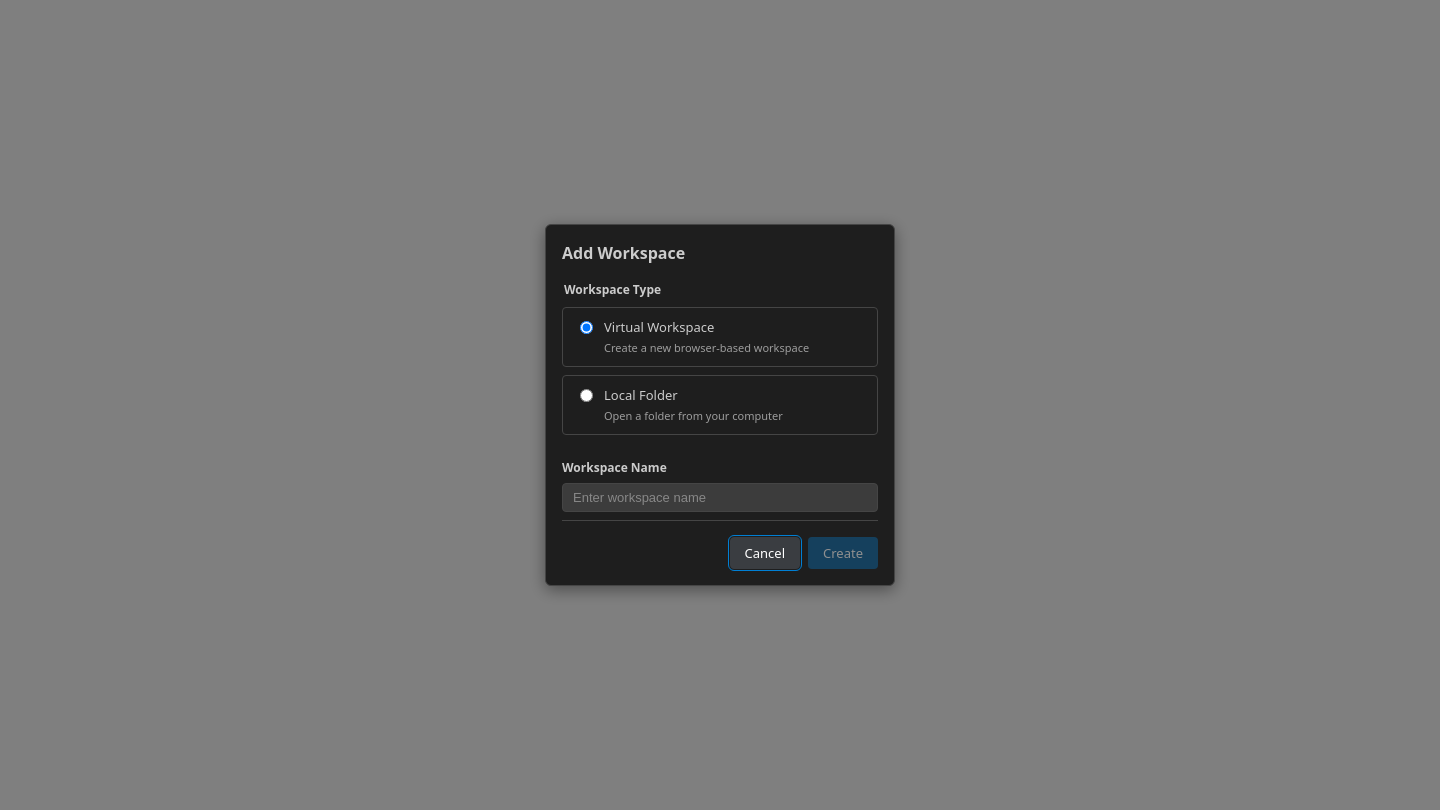
AddWorkspaceDialog › workspace type selection › can select local folder option
The width and height of the screenshot is (1440, 810).
Click the radio button labelled "Local Folder Open a folder from your computer": (586, 396) [580,389,593,402]
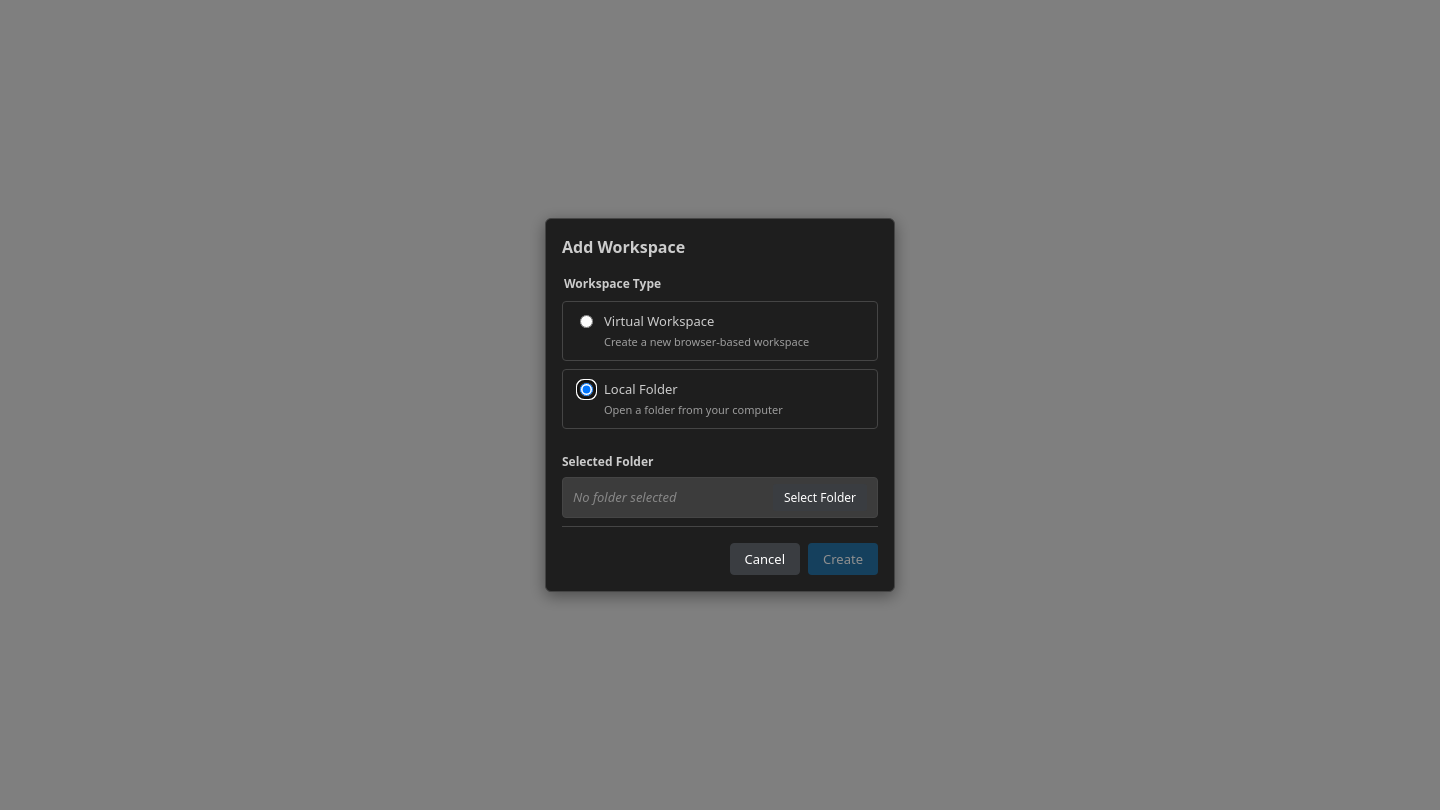
Now the radio button labelled "Local Folder Open a folder from your computer" is checked, box [580,383,593,396]
Now the radio button labelled "Virtual Workspace Create a new browser-based workspace" is not checked, box [580,315,593,328]
